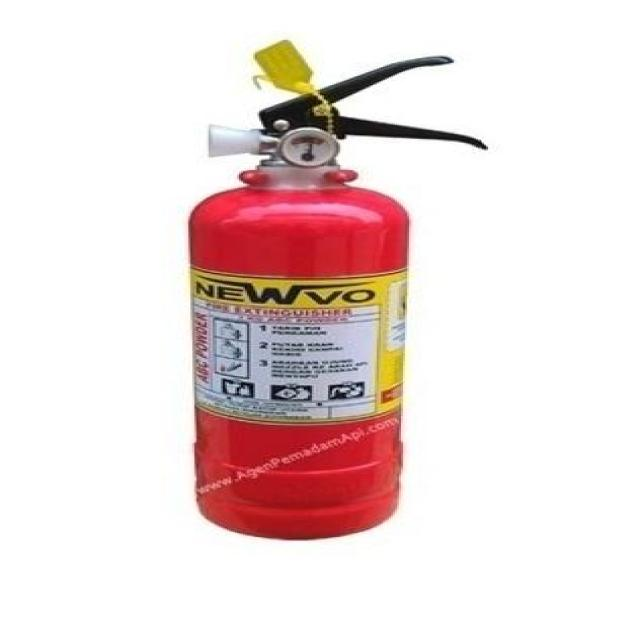fire_extinguisher: (167, 34, 497, 544)
